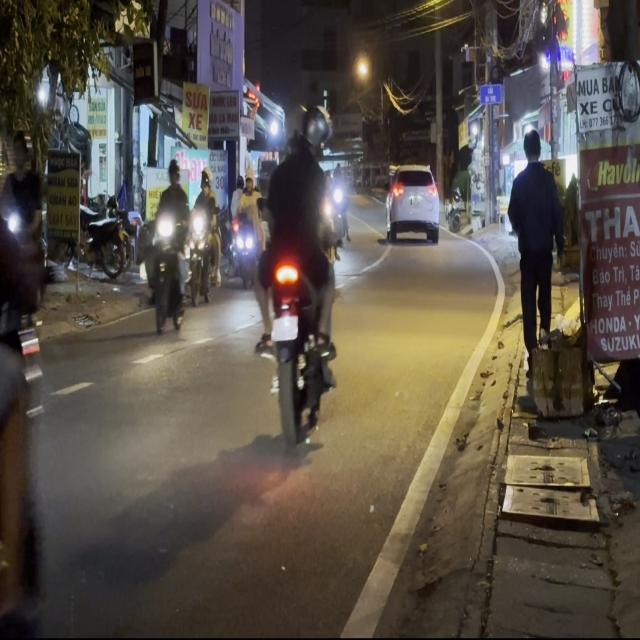helmet: (302, 104, 331, 158), (286, 108, 308, 155), (166, 155, 180, 185)
licenseplate: (0, 44, 54, 636), (251, 99, 341, 444), (144, 153, 192, 334)
nohelmet: (271, 314, 297, 340)
